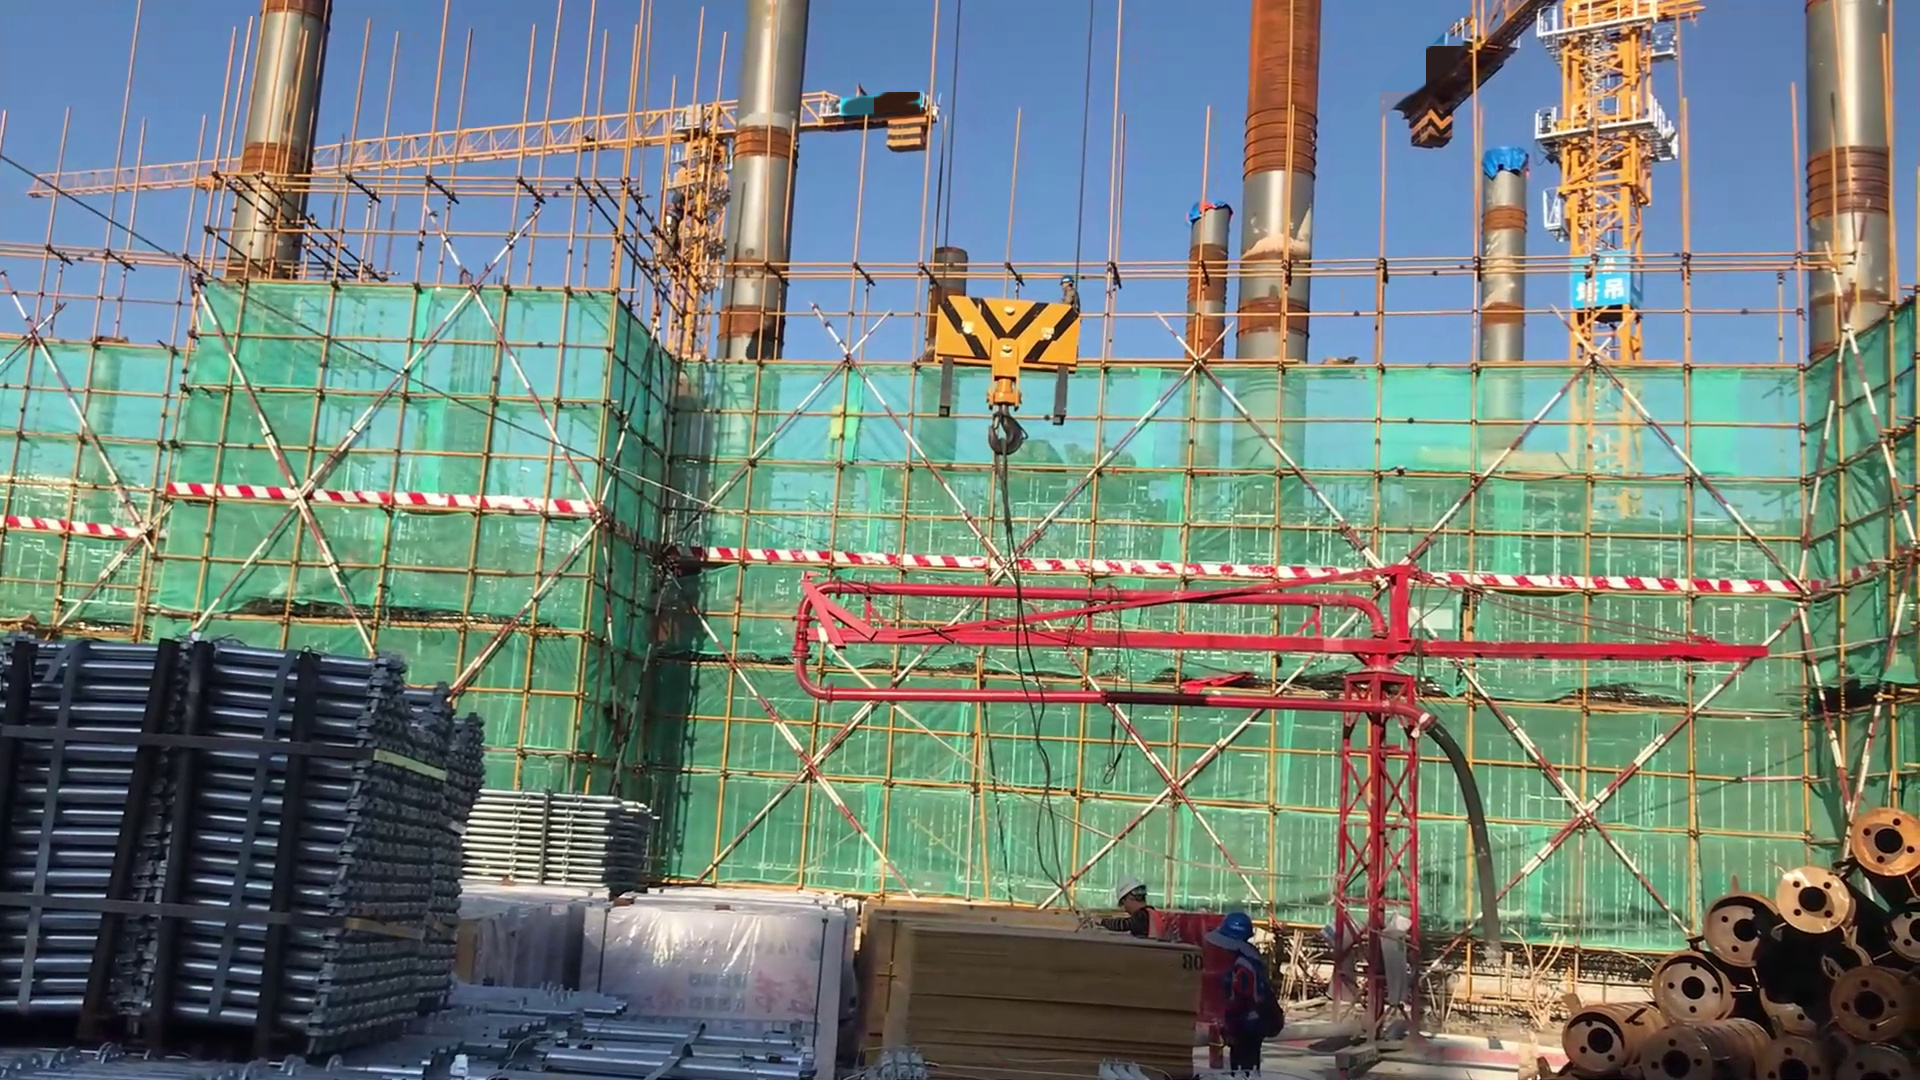board: (865, 887, 1197, 1080)
helmet: (1212, 908, 1254, 947), (1109, 880, 1149, 902), (1059, 270, 1078, 292)
hook: (906, 278, 1095, 474)
person: (1196, 905, 1291, 1078), (1069, 879, 1175, 949), (1058, 263, 1085, 383)
scaffold: (1, 639, 484, 1080), (426, 987, 813, 1080), (456, 787, 661, 891)
slogan: (1576, 255, 1640, 314)
vest: (1221, 950, 1280, 1039), (1125, 908, 1168, 940)
